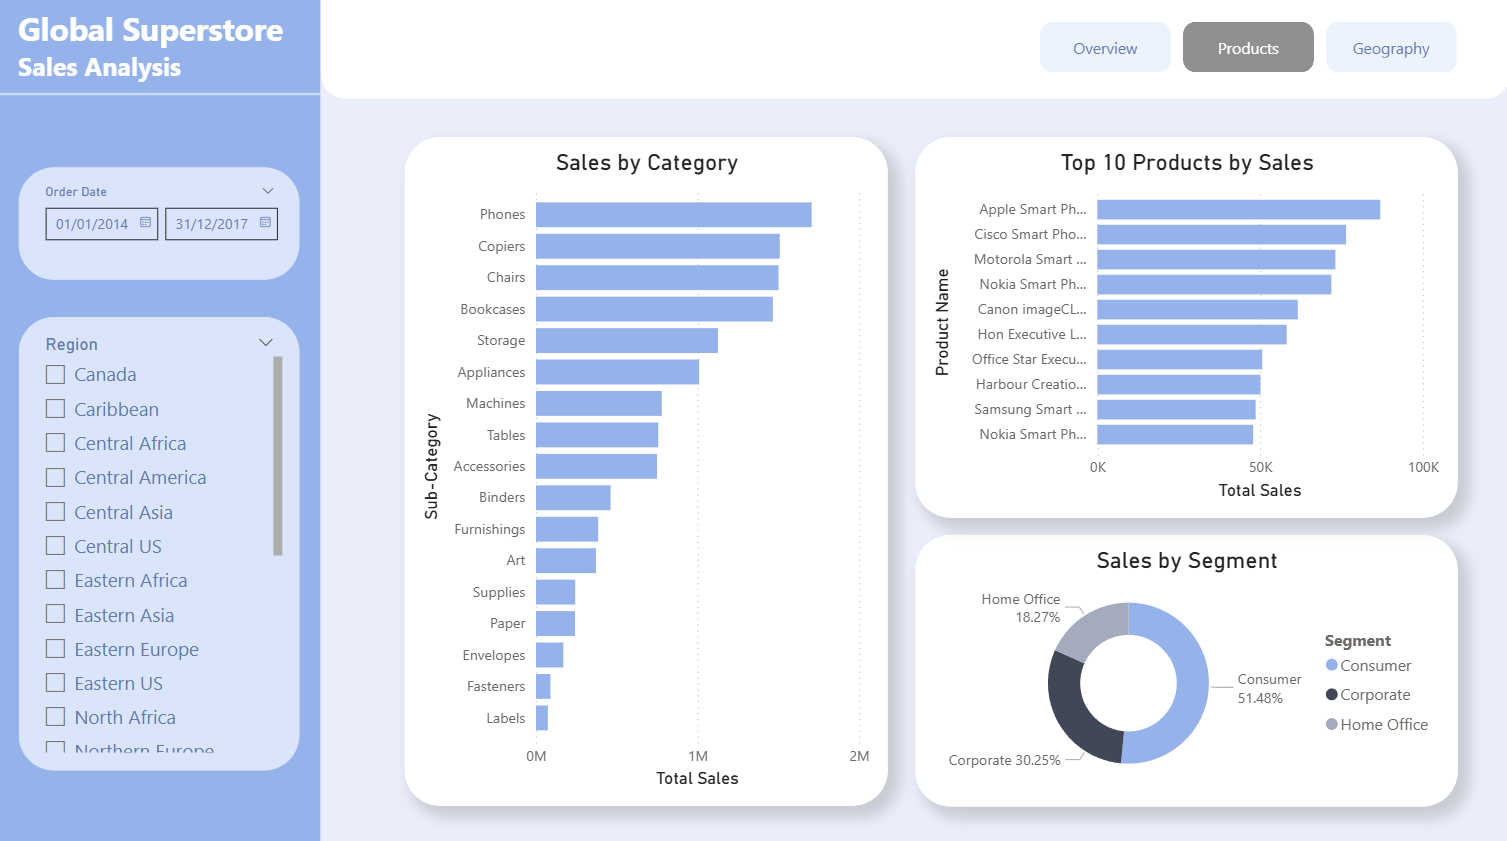

This screenshot's page, from the dashboard's own definition file:
{"tool":"powerbi","page":{"name":"Products","canvas":[1280,720],"ordinal":1},"visuals":[{"type":"clusteredBarChart","title":"Sales by Category","fields":{"Category":["Orders.Category","Orders.Sub-Category"],"Y":["Orders.Total Sales"]},"box":[343.2,118.1,409.2,566.3],"z":0},{"type":"donutChart","title":"Sales by Segment","fields":{"Category":["Orders.Segment"],"Y":["Orders.Total Sales"]},"box":[775.5,454.3,459.3,230.1],"z":1000},{"type":"barChart","title":"Top 10 Products by Sales","fields":{"Category":["Orders.Product Name"],"Y":["Orders.Total Sales"]},"box":[775.5,118.1,459.3,322.2],"z":2000},{"type":"shape","box":[0,0,272.2,720],"z":3000},{"type":"shape","box":[272.2,0,1006.7,85.6],"z":4000},{"type":"pageNavigator","box":[880.8,20.5,353.8,43.3],"z":5000},{"type":"shape","box":[0.4,64.3,272,33.7],"z":6000},{"type":"textbox","box":[10.6,1.7,255.2,79],"z":7000},{"type":"slicer","fields":{"Values":["Orders.Order Date"]},"box":[17.1,143.5,238.1,95.2],"z":8000},{"type":"slicer","fields":{"Values":["Returns.Region"]},"box":[17.1,270.5,238.1,384.1],"z":9000}]}

Visuals, with their boxes in screenshot pixels (x1, y1, x2, y2), scaled from the page's 1280x720 canvas onto the 1507x841 screenshot:
"Sales by Category" clusteredBarChart: x1=404 y1=138 x2=886 y2=799
"Sales by Segment" donutChart: x1=913 y1=531 x2=1454 y2=799
"Top 10 Products by Sales" barChart: x1=913 y1=138 x2=1454 y2=514
shape: x1=0 y1=0 x2=320 y2=840
shape: x1=320 y1=0 x2=1506 y2=100
pageNavigator: x1=1037 y1=24 x2=1454 y2=75
shape: x1=0 y1=75 x2=321 y2=114
textbox: x1=12 y1=2 x2=313 y2=94
slicer - Orders.Order Date: x1=20 y1=168 x2=300 y2=279
slicer - Returns.Region: x1=20 y1=316 x2=300 y2=765
